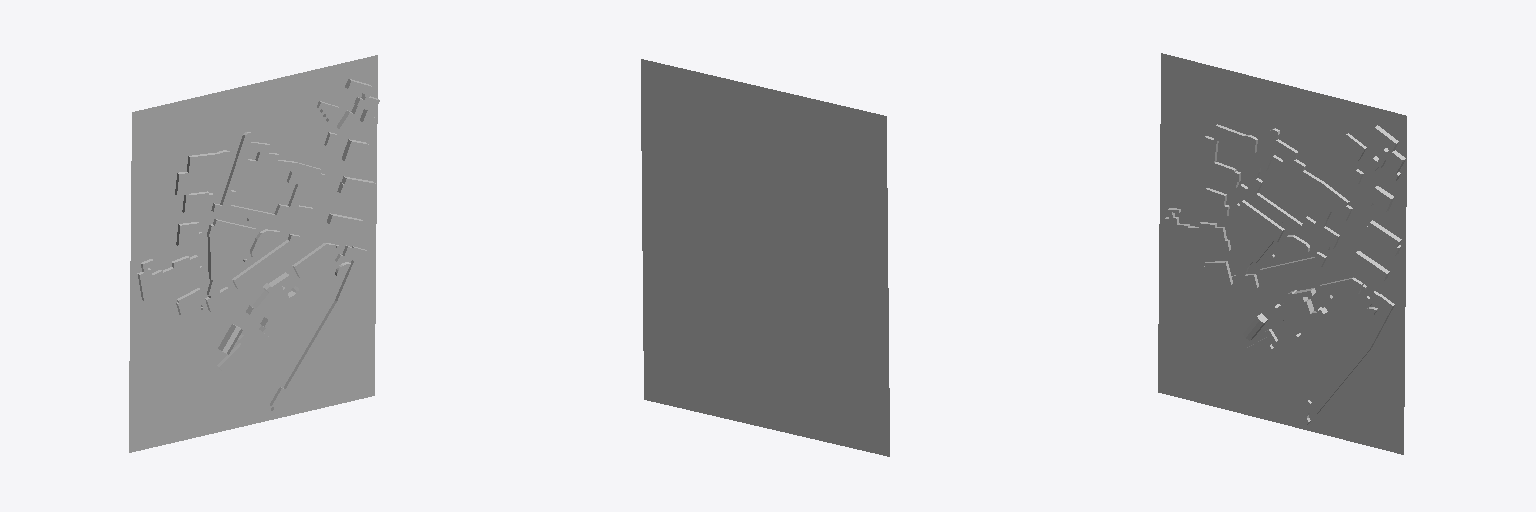
File: kth_campus2.obj
3 renders of one model, left to right at view 1: azimuth 30°, elevation 25°; view 2: azimuth 150°, elevation 25°; view 3: azimuth 330°, elevation 25°, orthographic.
Bounding box in the file's own units: 1.49 × 1.95 × 0.054.